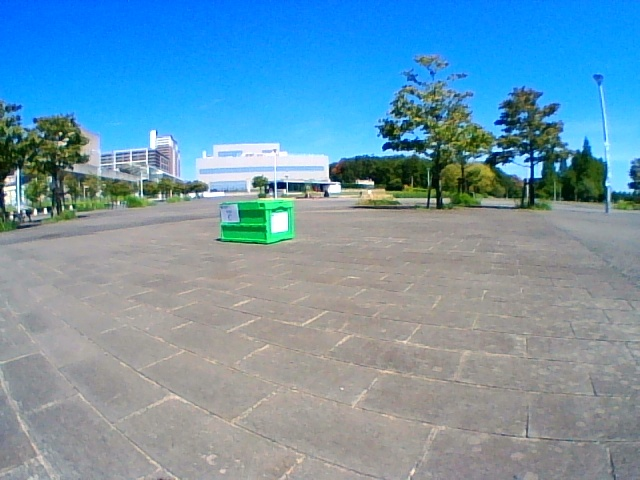green_box: (220, 201, 295, 242)
tag: (221, 205, 237, 222)
